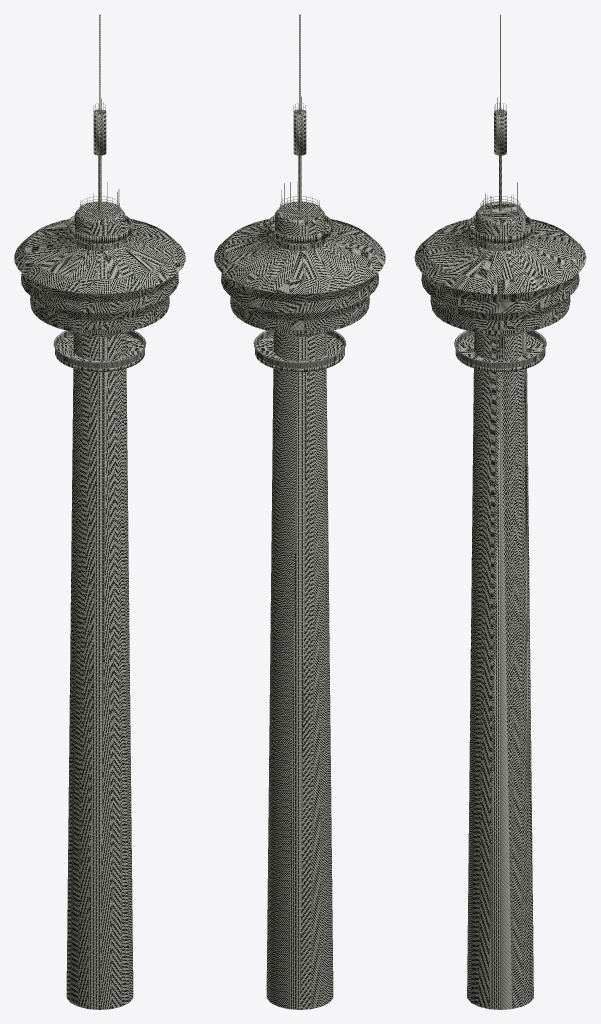
Rendered from Nneula.gltf.
The picture shows the model from 3 angles, left to right: view 1: azimuth 30°, elevation 25°; view 2: azimuth 150°, elevation 25°; view 3: azimuth 270°, elevation 25°; orthographic projection.
Visible parts, largest first — view 1: Opaque, Alpha; view 2: Opaque, Alpha; view 3: Opaque, Alpha.
Part boxes in pixels (<box>): Opaque: <box>14,14,185,1009</box>; Alpha: <box>55,331,144,368</box>; Opaque: <box>214,14,385,1009</box>; Alpha: <box>255,331,344,368</box>; Opaque: <box>414,14,586,1009</box>; Alpha: <box>455,331,545,368</box>.
Bounding box in the file's own units: 26.7 × 168 × 26.7.
